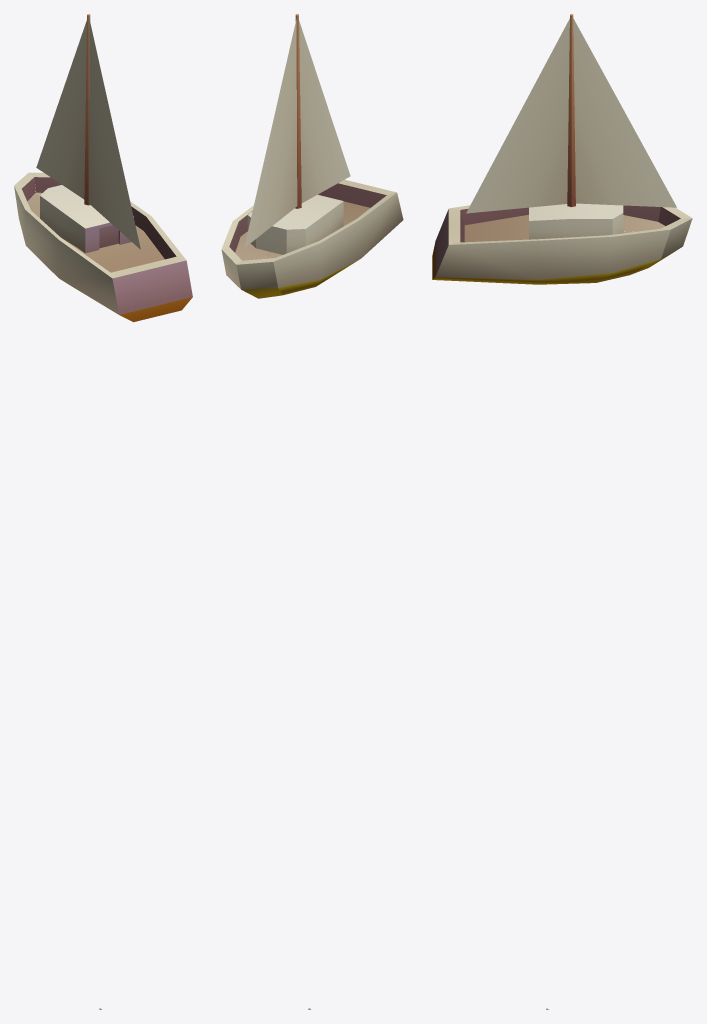
The model's file is 1.100_SanFrancisco_extra_09.glb.
The picture shows the model from 3 angles, left to right: view 1: azimuth 30°, elevation 25°; view 2: azimuth 150°, elevation 25°; view 3: azimuth 270°, elevation 25°; orthographic projection.
Visible parts, largest first — view 1: 1.100_SanFrancisco_extra_09; view 2: 1.100_SanFrancisco_extra_09; view 3: 1.100_SanFrancisco_extra_09.
Part boxes in pixels (x1,y1,x2,y2): 1.100_SanFrancisco_extra_09: (14, 14, 192, 1009); 1.100_SanFrancisco_extra_09: (221, 14, 403, 1009); 1.100_SanFrancisco_extra_09: (432, 14, 692, 1009).
Size of the model in its own units: 31.23 by 314 by 74.54.
1 material, 1 textured.
